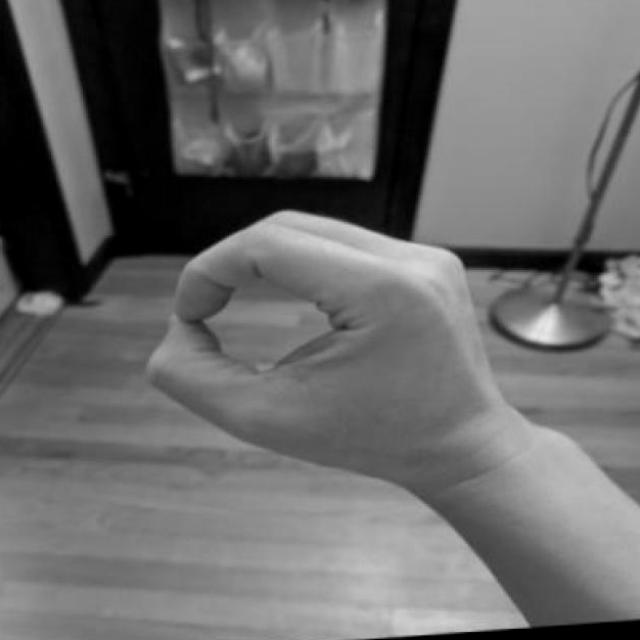O: (145, 197, 563, 496)
